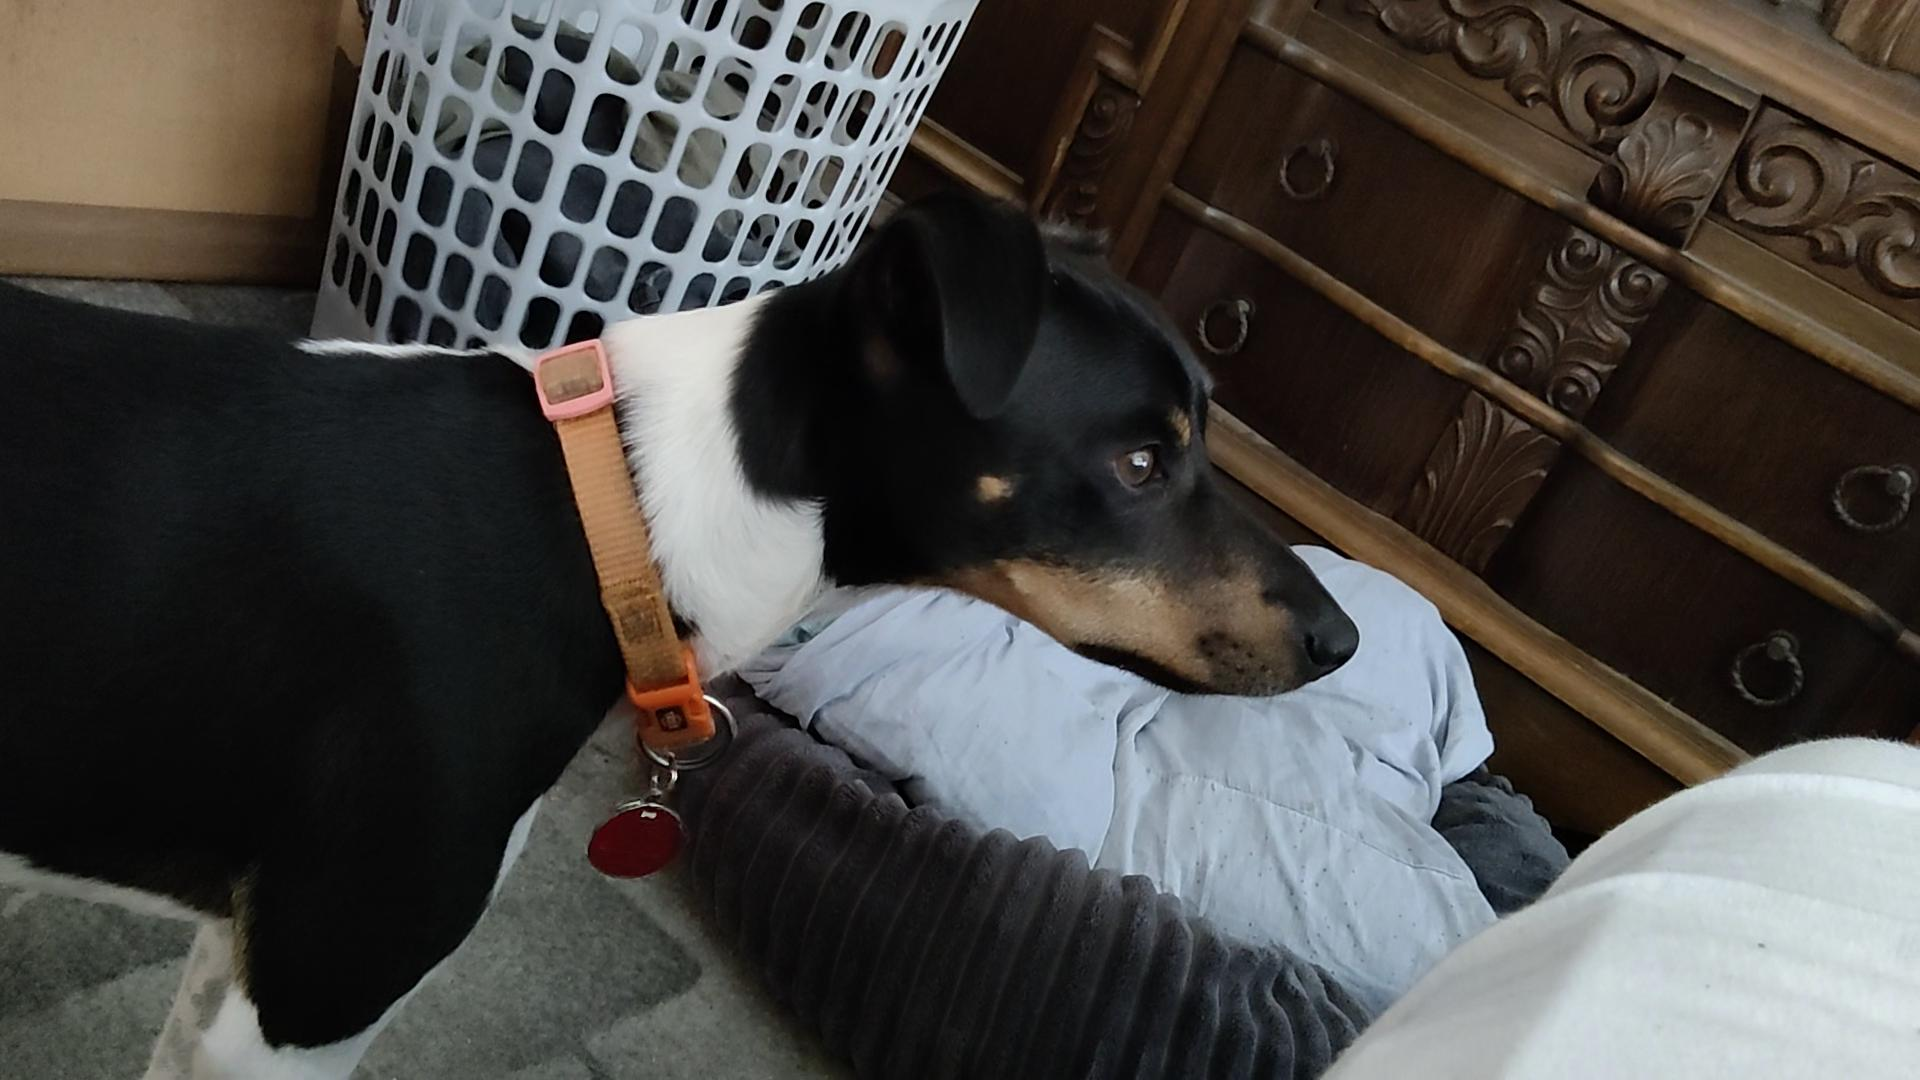Dog: (0, 189, 1369, 1079)
